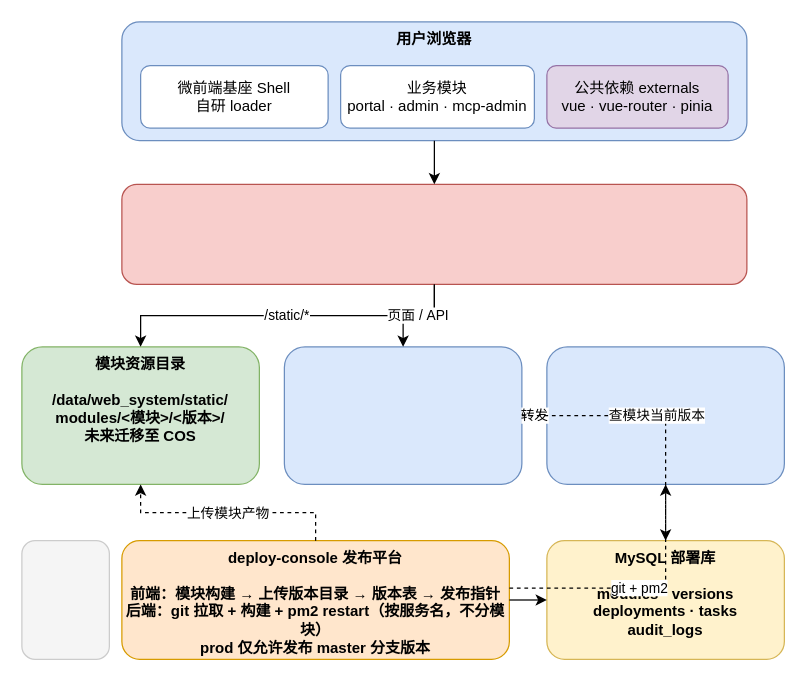
Some shapes in this 806 by 681 pixel diagram are drawn without their labels. The shapes that lost their labels are listed below. From the top down, each one's centre as x and y in pixels, then its label:
the point at 434,233: nginx (80 / 443) /、/api/* → 转发 gateway:6000 /static/modules/* → 模块资源目录（不经网关）
the point at 402,415: gateway :6000 基座 index.html 服务 注入模块版本清单 /api/* 鉴权与转发 灰度钩子（按用户）
the point at 665,415: 后端服务（按服务名） auth-service / system ai-service / upload … pm2 进程管理
the point at 65,599: 图例： 蓝色 = 数据面 橙色 = 管控面 绿色 = 静态资源 紫色 = 公共依赖 虚线 = 管控/查询流
